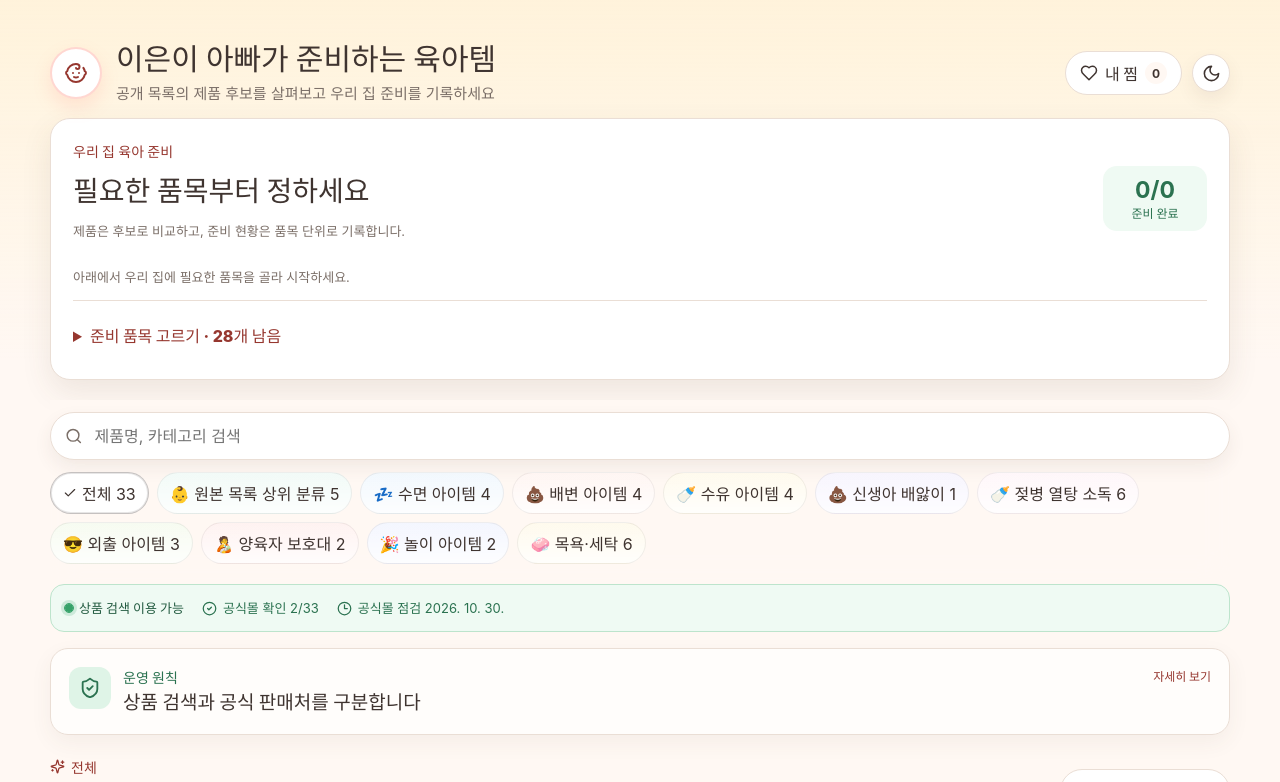
Test: App › filters products through the named search input
Type "백색소음기" into the search field named "제품명 또는 카테고리 검색" at (654, 436), box [93,425,1215,447]
(page scrolled)
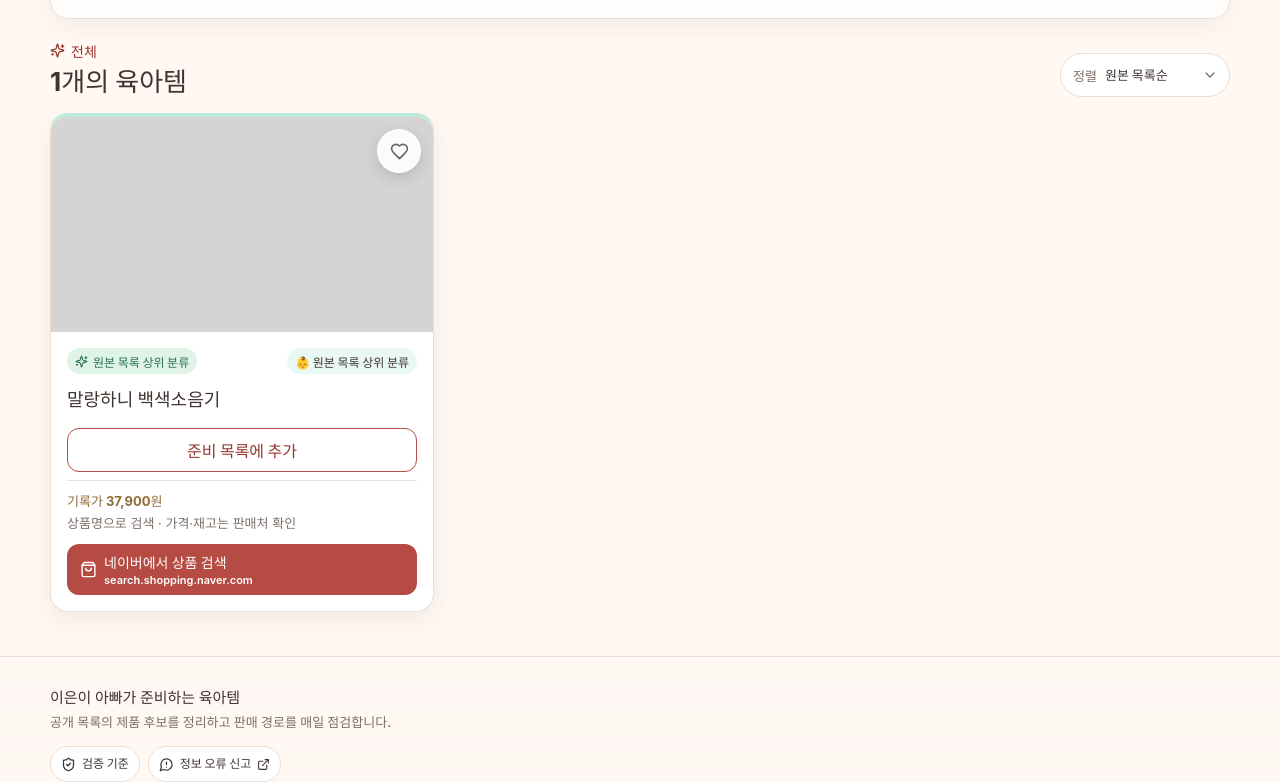
Check: the heading "말랑하니 백색소음기" is shown, box [67,389,220,410]
Check: the heading "1개의 육아템" is shown, box [50,66,187,97]
